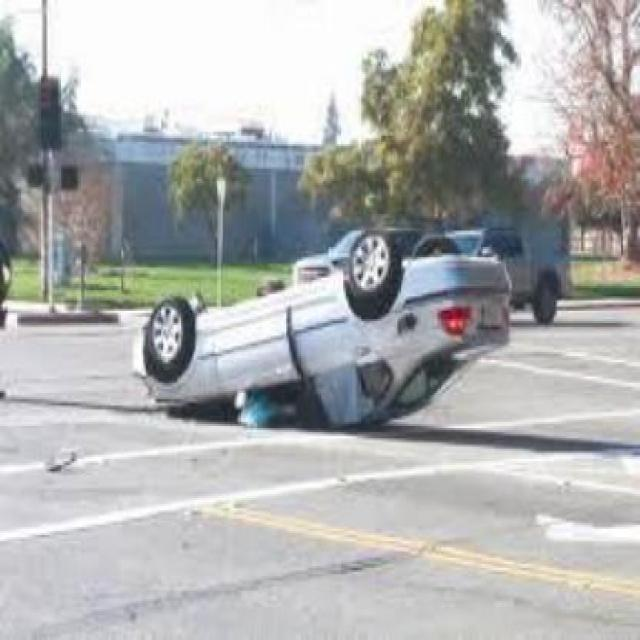accident: (123, 224, 512, 440)
